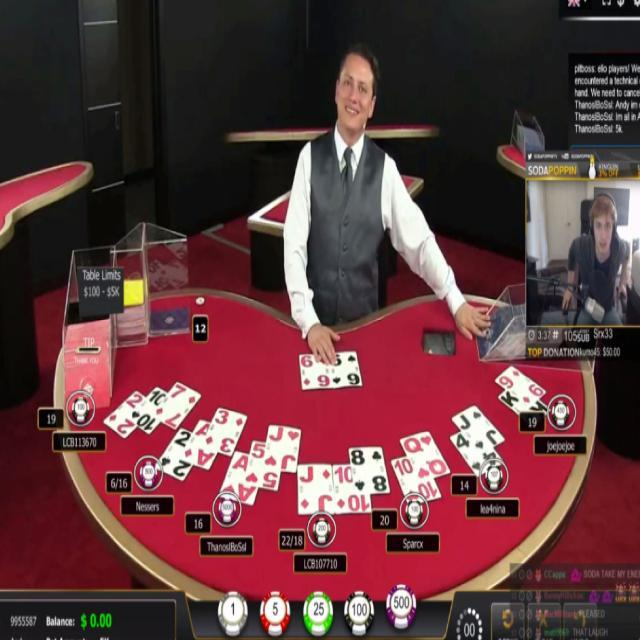Card-10: (391, 455, 441, 505), (333, 463, 371, 512), (129, 386, 167, 434)
Card-2: (103, 388, 146, 438), (156, 428, 192, 480)
Card-3: (205, 406, 246, 456)
Card-4: (450, 429, 503, 476)
Card-5: (245, 438, 280, 488)
Card-6: (330, 349, 362, 387), (299, 353, 331, 390)
Card-7: (156, 380, 201, 428)
Card-8: (349, 445, 389, 490)
Card-9: (495, 365, 547, 402)
Card-A: (219, 450, 258, 505), (181, 417, 216, 471)
Card-J: (452, 403, 505, 450), (266, 422, 300, 474), (298, 464, 334, 513)
Card-K: (497, 390, 550, 417)
Card-Q: (400, 429, 450, 477)
